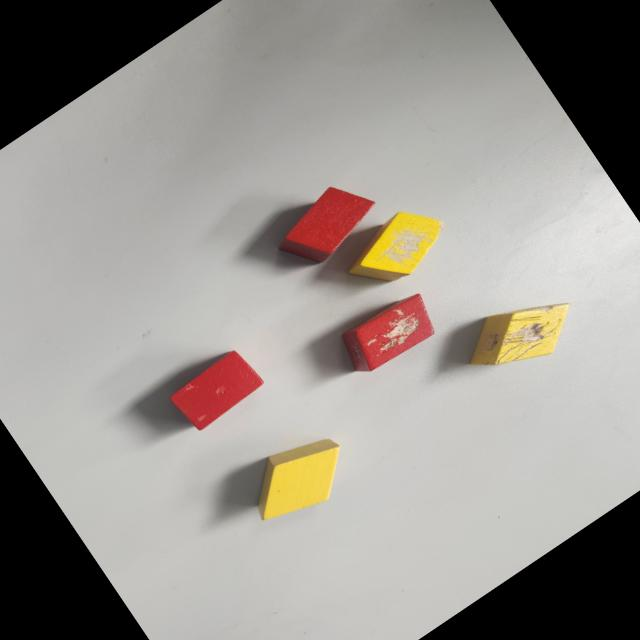broken: (452, 272, 590, 397), (336, 192, 461, 302), (333, 284, 442, 382), (167, 344, 266, 434)
red: (266, 170, 388, 279)
yellow: (235, 418, 363, 536)
